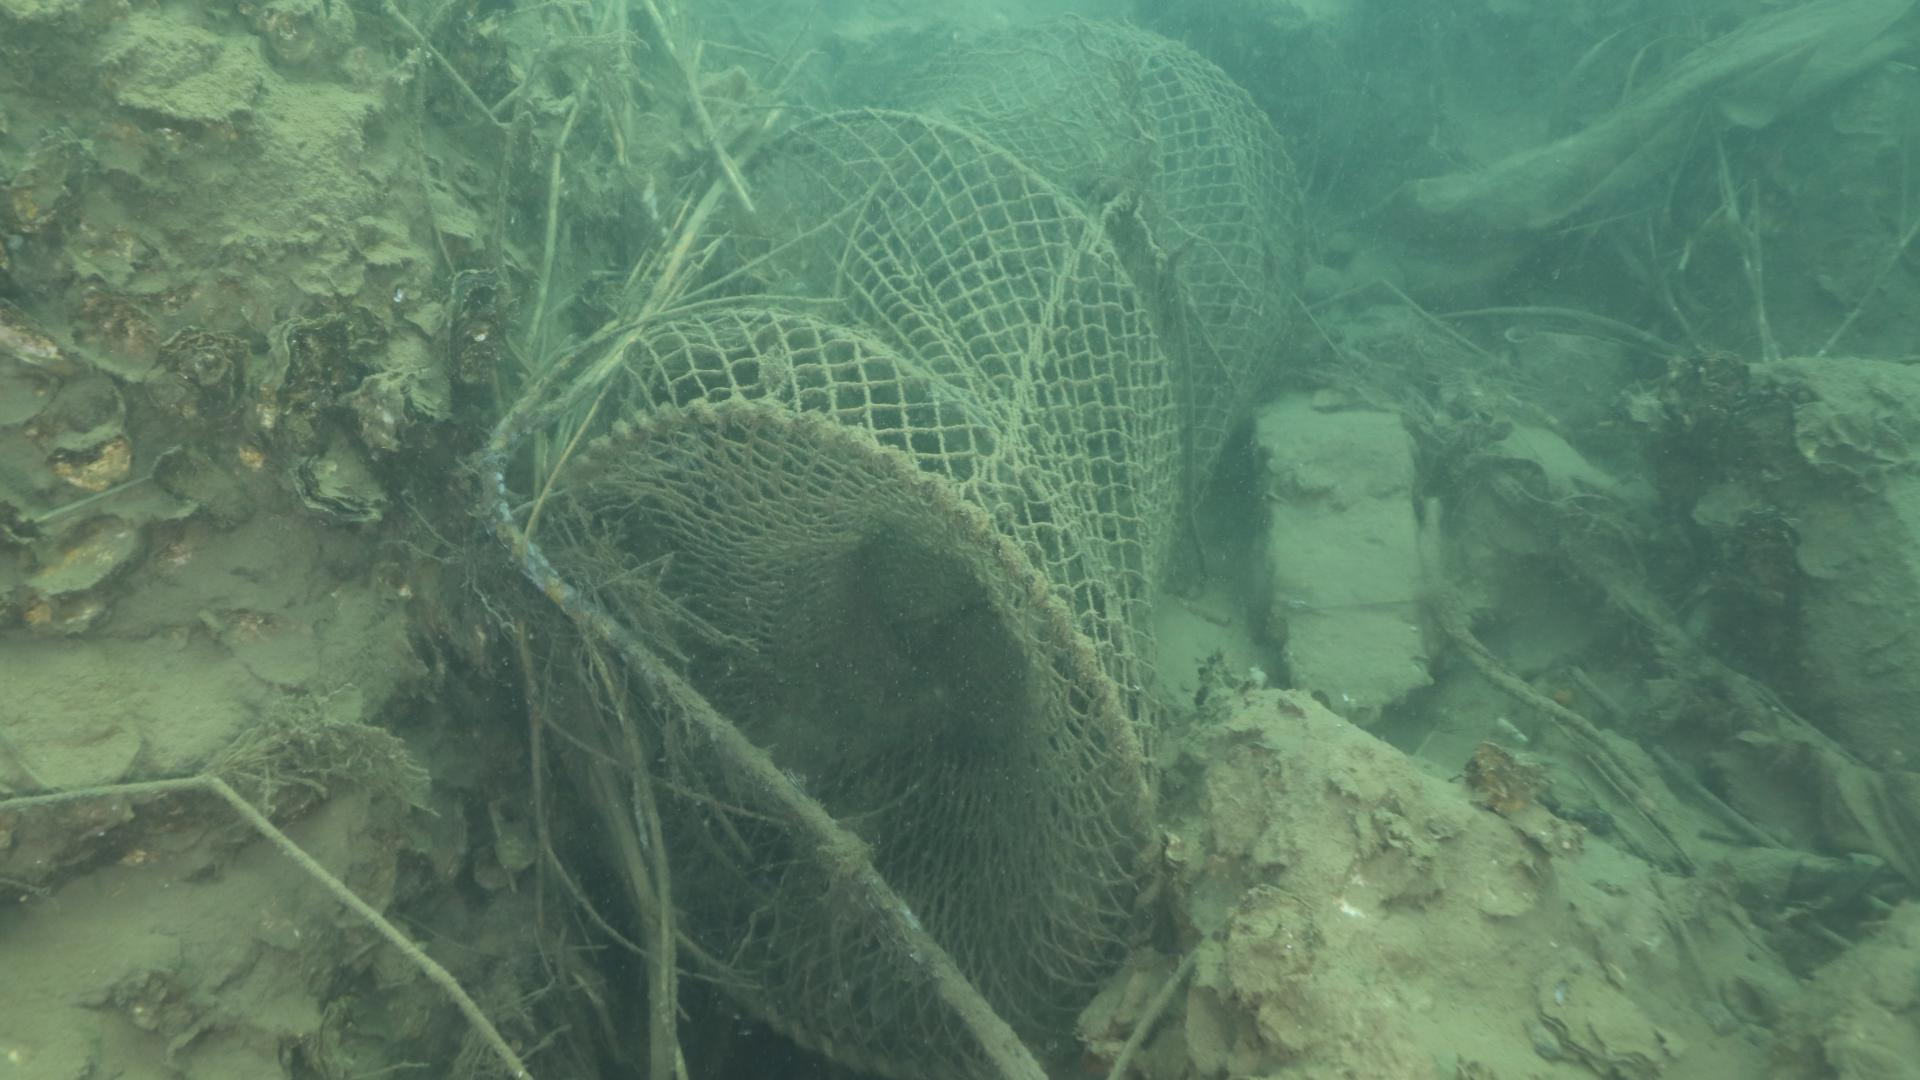rope: (480, 410, 1048, 1080)
spring fish trap: (516, 11, 1309, 1080)
